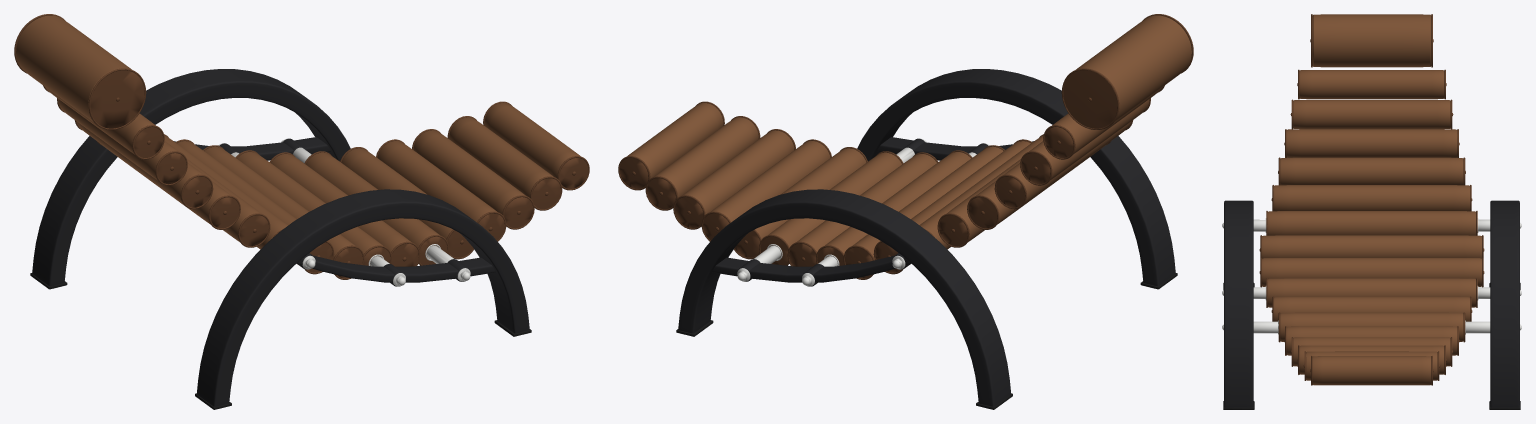
File: duolune_lite.glb
3 renders of one model, left to right at view 1: azimuth 30°, elevation 25°; view 2: azimuth 150°, elevation 25°; view 3: azimuth 270°, elevation 25°, orthographic. The views are drawn at different scales.
Parts seen in each view (by area): view 1: rollers, frame, trim, rail, hardware; view 2: rollers, frame, trim, rail, hardware; view 3: rollers, frame, trim, hardware.
Part boxes in pixels (<box>): rollers: <box>16,15,580,274</box>; frame: <box>32,69,529,406</box>; trim: <box>14,14,589,279</box>; rail: <box>174,137,495,286</box>; hardware: <box>218,138,470,286</box>; rollers: <box>627,15,1191,274</box>; frame: <box>678,69,1175,406</box>; trim: <box>618,14,1193,279</box>; rail: <box>712,137,1033,286</box>; hardware: <box>737,138,989,286</box>; rollers: <box>1262,14,1481,385</box>; frame: <box>1224,200,1519,407</box>; trim: <box>1259,14,1484,385</box>; hardware: <box>1222,218,1521,334</box>.
Bounding box in the file's own units: 1.74 × 1.03 × 1.11.
